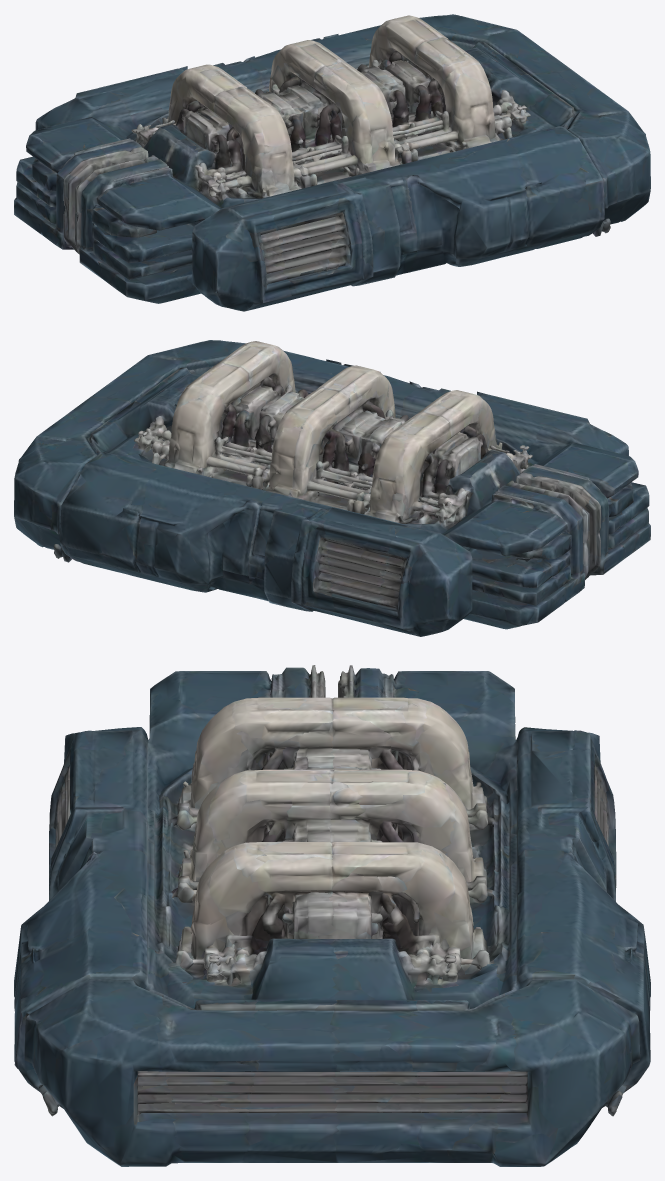
Rendered from arc-longshot-railback-lean.glb.
3 views of the same model, one above another, from view 1: azimuth 30°, elevation 25°; view 2: azimuth 150°, elevation 25°; view 3: azimuth 270°, elevation 25° (orthographic). The views are drawn at different scales.
Visible parts, largest first — view 1: chassis; view 2: chassis; view 3: chassis.
Boxes of the visible parts, bbox=[...] form: chassis: bbox=[14, 14, 650, 311]; chassis: bbox=[14, 340, 650, 636]; chassis: bbox=[14, 665, 650, 1166].
Bounding box in the file's own units: 0.9897 × 0.2736 × 0.7291.
Materials: 1 (1 with a texture image).
